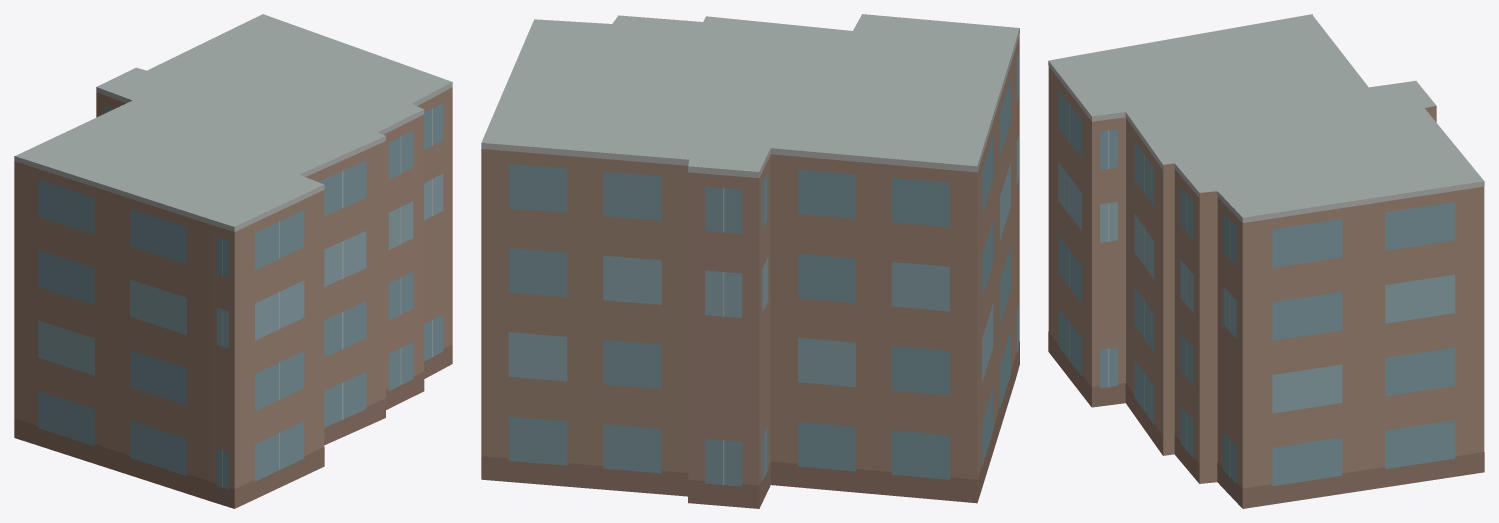
Rendered from survey-upis-32999092.glb.
3 views of the same model, side by side, from view 1: azimuth 30°, elevation 25°; view 2: azimuth 150°, elevation 25°; view 3: azimuth 270°, elevation 25° (orthographic). The views are drawn at different scales.
Visible parts, largest first — view 1: survey-upis-32999092.tmp; view 2: survey-upis-32999092.tmp; view 3: survey-upis-32999092.tmp.
Boxes of the visible parts, box(x1,y1,x2,y2) form: survey-upis-32999092.tmp: box(14, 14, 452, 508); survey-upis-32999092.tmp: box(481, 14, 1019, 508); survey-upis-32999092.tmp: box(1048, 14, 1484, 508).
Size of the model in its own units: 20.21 by 13.45 by 18.27.
